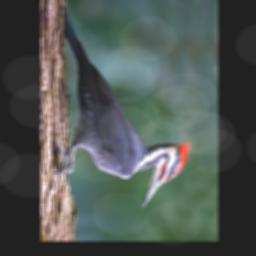Woodpecker: (51, 0, 190, 207)
